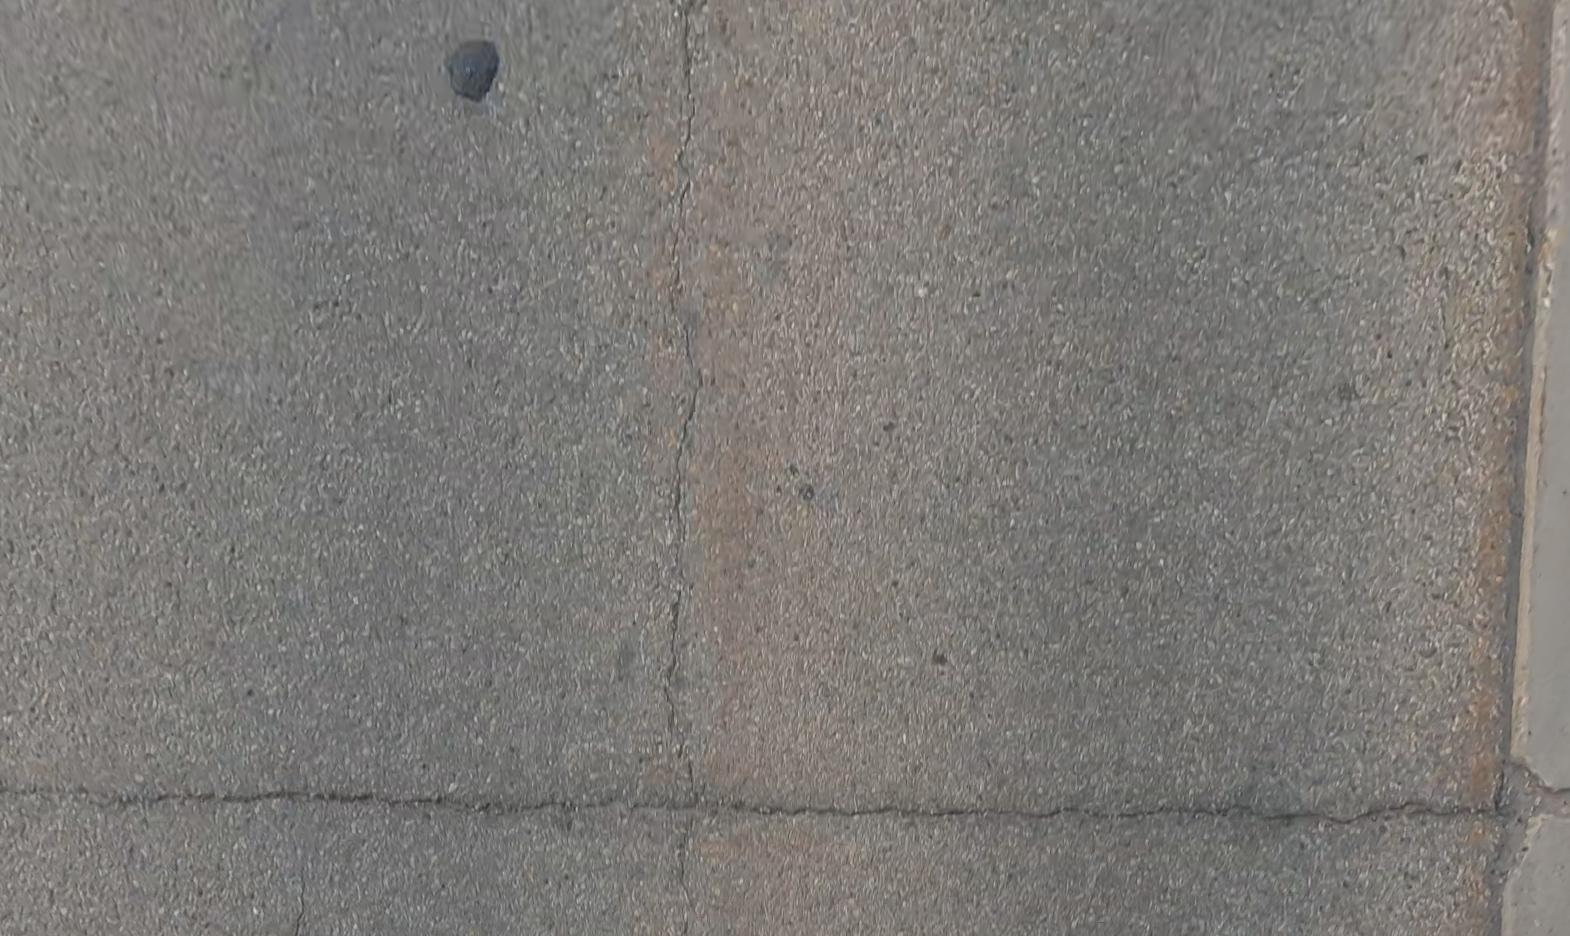pothole_patch_good: (445, 38, 498, 98)
